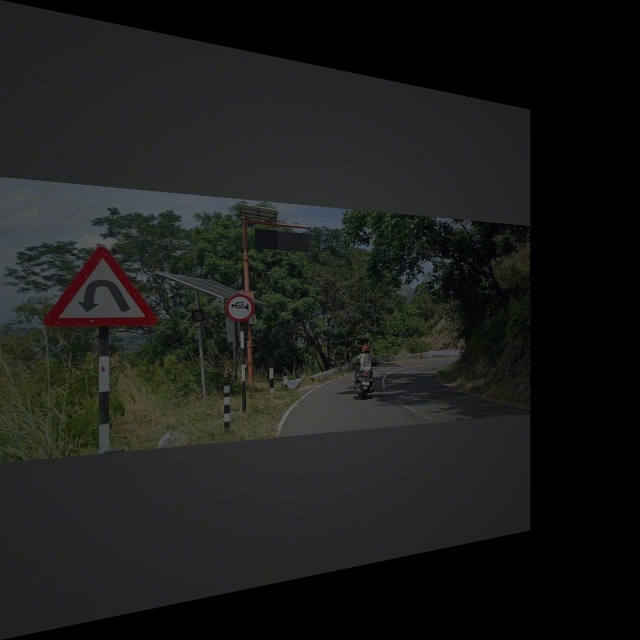Left_Hair_Pin_Bend: (44, 242, 157, 332)
